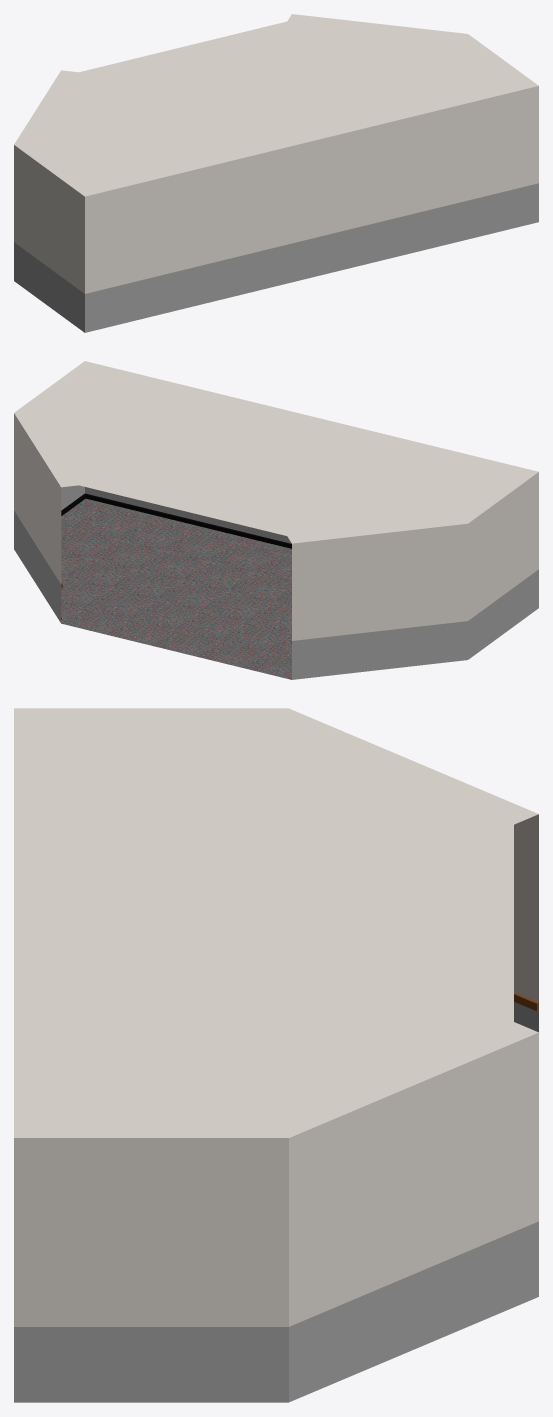
The model's file is MiniUnit1StageRoom.glb.
3 views of the same model, one above another, from view 1: azimuth 30°, elevation 25°; view 2: azimuth 150°, elevation 25°; view 3: azimuth 270°, elevation 25° (orthographic). The views are drawn at different scales.
Visible parts, largest first — view 1: Room; view 2: Room, RoomTrim; view 3: Room.
Boxes of the visible parts, x1,y1,x2,y2 form: Room: (14,14,538,332); Room: (14,361,538,679); RoomTrim: (61,493,291,644); Room: (14,708,538,1402).
Bounding box in the file's own units: 12.2 × 3.5 × 6.3.
Materials: 5 (1 with a texture image).
